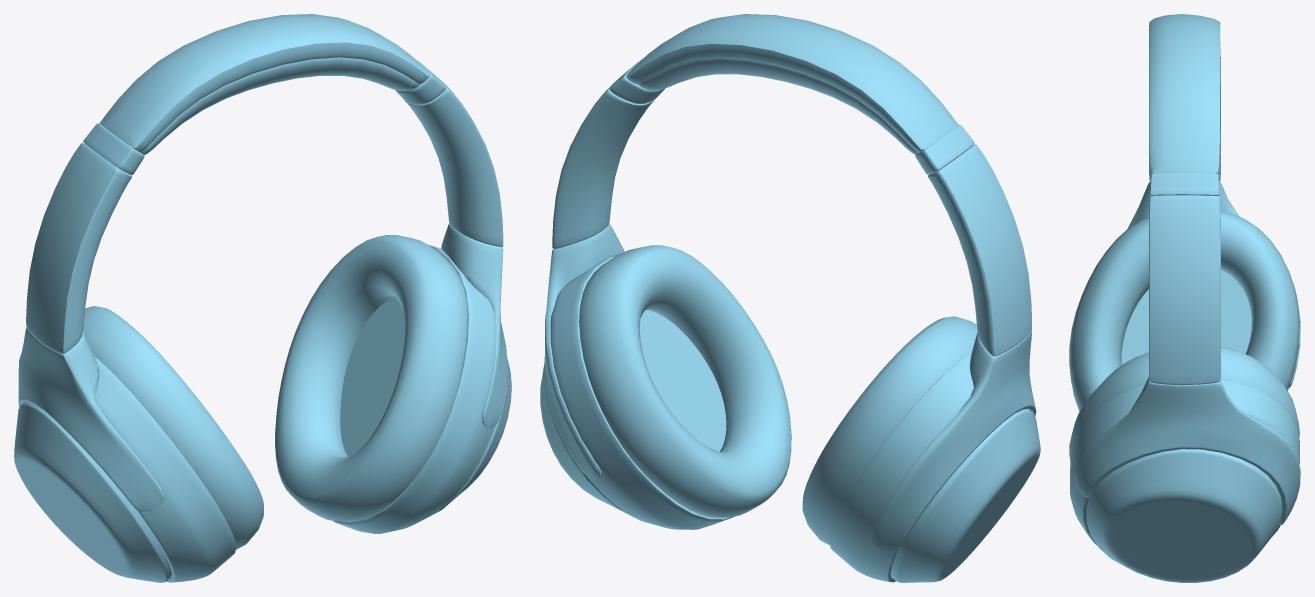
File: ThreejsScene (5).glb
3 views of the same model, side by side, from view 1: azimuth 30°, elevation 25°; view 2: azimuth 150°, elevation 25°; view 3: azimuth 270°, elevation 25° (orthographic). The views are drawn at different scales.
Visible parts, largest first — view 1: уховнешнее001; view 2: уховнешнее001; view 3: уховнешнее001.
Part boxes in pixels (<box>): уховнешнее001: <box>14,14,511,582</box>; уховнешнее001: <box>540,14,1040,582</box>; уховнешнее001: <box>1069,14,1300,582</box>.
Size of the model in its own units: 4.3 by 4.62 by 1.99.
